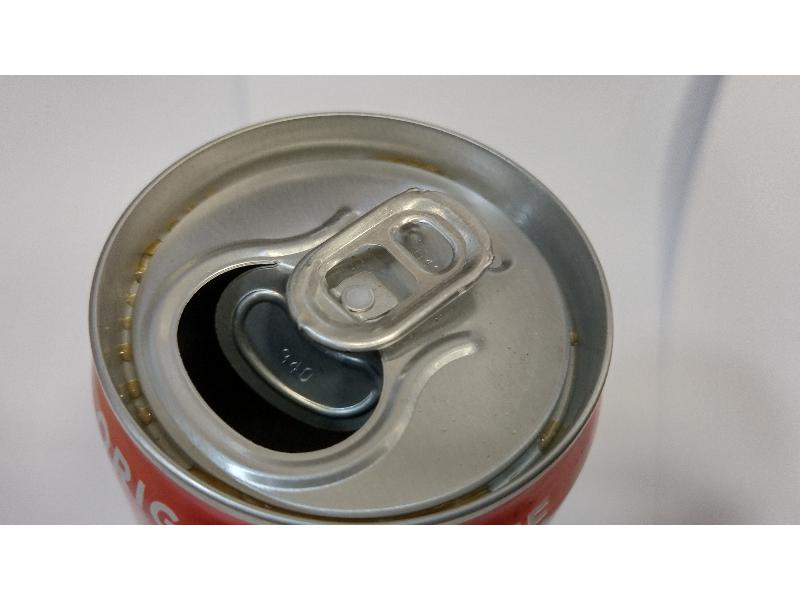can: (79, 98, 629, 529)
